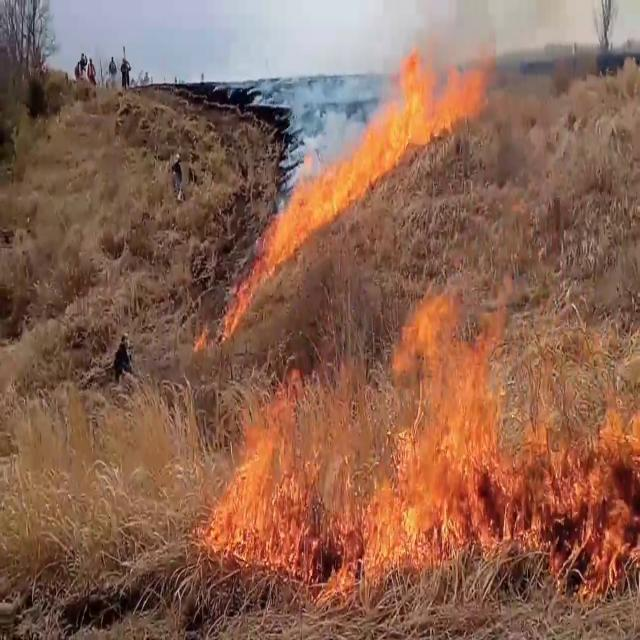Fire: (219, 263, 640, 597), (318, 28, 491, 214), (202, 162, 334, 368)
